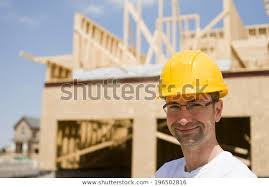Person_wearing_helmet: (153, 46, 228, 122)
